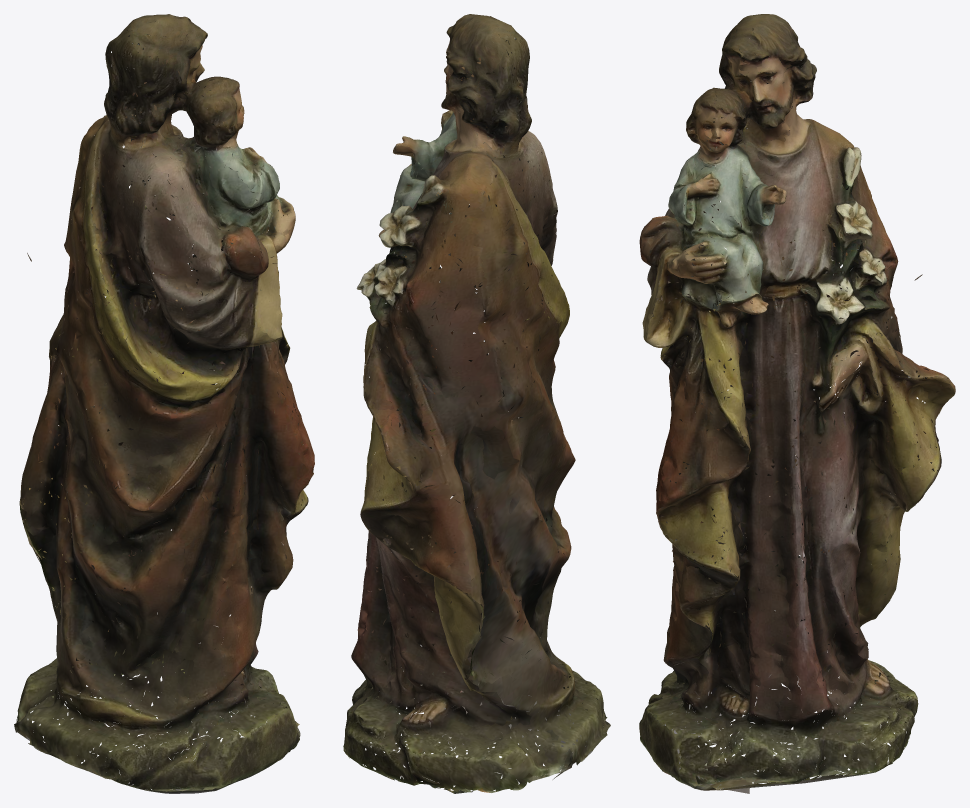
Rendered from scan-joseph.glb.
The picture shows the model from 3 angles, left to right: view 1: azimuth 30°, elevation 25°; view 2: azimuth 150°, elevation 25°; view 3: azimuth 270°, elevation 25°; orthographic projection.
Visible parts, largest first — view 1: geometry_4, geometry_1, geometry_0, geometry_2, geometry_3; view 2: geometry_4, geometry_0, geometry_3, geometry_2, geometry_1; view 3: geometry_4, geometry_0, geometry_1, geometry_2, geometry_3.
Boxes of the visible parts, x1,y1,x2,y2 form: geometry_4: [14, 22, 314, 780]; geometry_1: [15, 31, 302, 791]; geometry_0: [24, 14, 314, 793]; geometry_2: [20, 15, 310, 791]; geometry_3: [14, 30, 304, 791]; geometry_4: [344, 26, 610, 791]; geometry_0: [345, 15, 606, 792]; geometry_3: [343, 38, 610, 793]; geometry_2: [343, 14, 605, 792]; geometry_1: [351, 16, 607, 793]; geometry_4: [641, 14, 955, 789]; geometry_0: [639, 14, 944, 793]; geometry_1: [640, 19, 954, 787]; geometry_2: [639, 14, 948, 786]; geometry_3: [646, 52, 948, 788].
Bounding box in the file's own units: 0.6808 × 2 × 0.774.
Materials: 4 (4 with a texture image).
